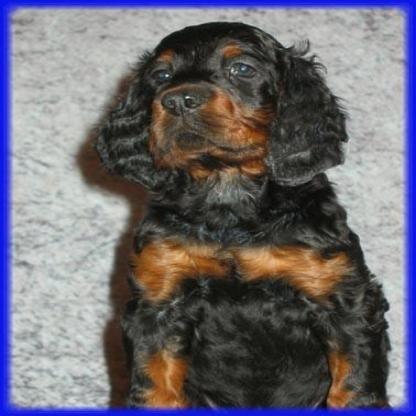Gordon_setter: (87, 20, 394, 408)
